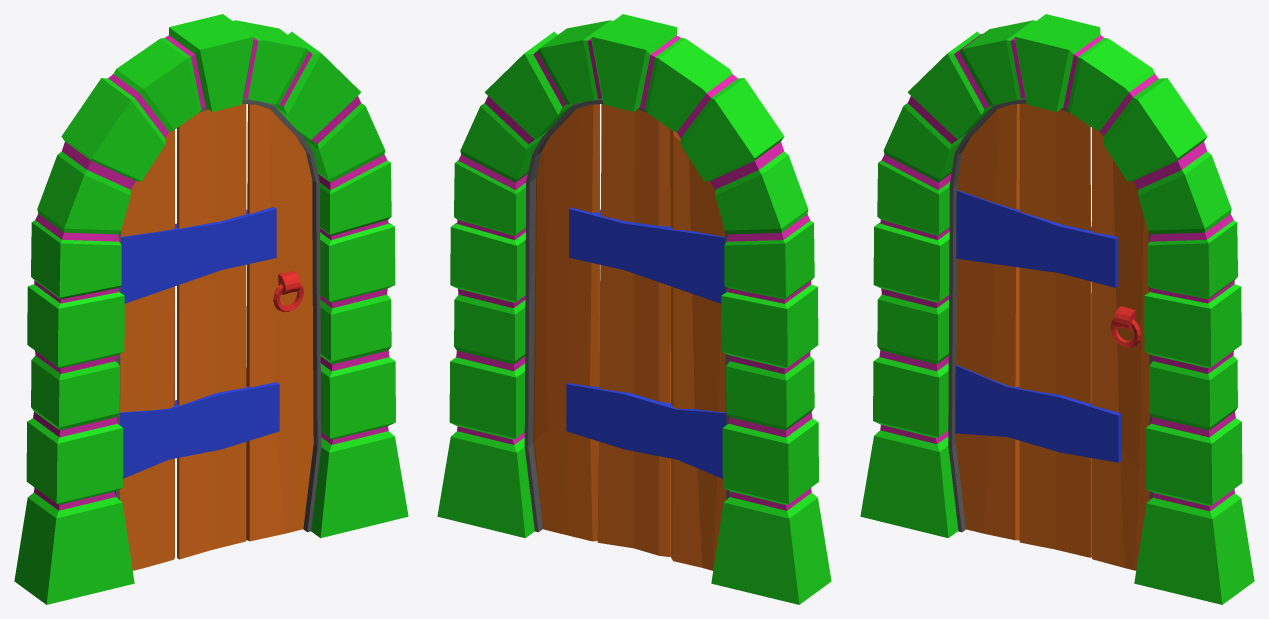
Rendered from Door02.fbx.
3 renders of one model, left to right at view 1: azimuth 30°, elevation 25°; view 2: azimuth 150°, elevation 25°; view 3: azimuth 330°, elevation 25°, orthographic.
Parts seen in each view (by area): view 1: DoorFrame, Plank, Plank.001, Plank.002, MetalHolderBottum, MetalHolderTop, DoorNew; view 2: DoorFrame, Plank, Plank.001, Plank.002, MetalHolderBottum, MetalHolderTop, DoorNew; view 3: DoorFrame, Plank, Plank.001, Plank.002, MetalHolderBottum, MetalHolderTop, DoorNew.
Part boxes in pixels (<box>): DoorFrame: <box>14,14,408,604</box>; Plank: <box>177,103,246,559</box>; Plank.001: <box>246,104,313,541</box>; Plank.002: <box>119,130,174,570</box>; MetalHolderBottum: <box>120,382,279,478</box>; MetalHolderTop: <box>120,207,276,303</box>; DoorNew: <box>115,98,321,532</box>; DoorFrame: <box>437,14,831,604</box>; Plank: <box>597,103,670,556</box>; Plank.001: <box>533,104,599,541</box>; Plank.002: <box>670,129,726,570</box>; MetalHolderBottum: <box>566,383,725,478</box>; MetalHolderTop: <box>569,207,725,303</box>; DoorNew: <box>524,98,730,532</box>; DoorFrame: <box>860,14,1254,604</box>; Plank: <box>1019,103,1091,557</box>; Plank.001: <box>1092,128,1149,570</box>; Plank.002: <box>956,104,1019,540</box>; MetalHolderBottum: <box>955,365,1121,462</box>; MetalHolderTop: <box>956,190,1118,287</box>; DoorNew: <box>948,98,1153,532</box>.
Bounding box in the file's own units: 200 × 273 × 30.83.
